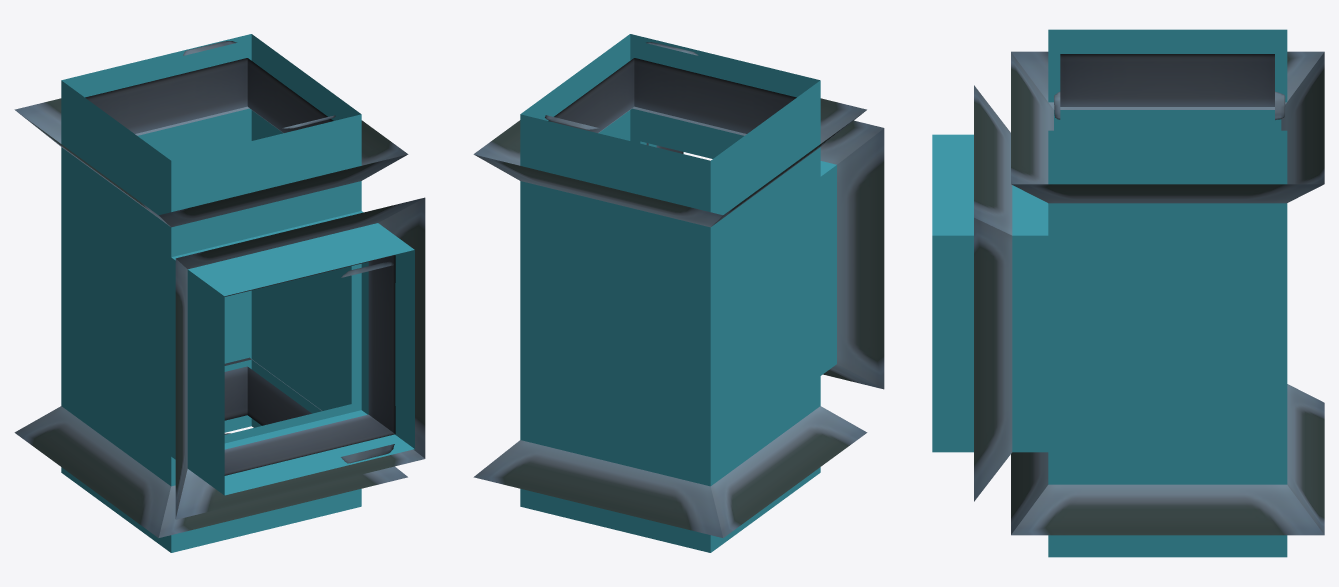
File: obj_interactive_pipe_T_lod1.fbx
3 renders of one model, left to right at view 1: azimuth 30°, elevation 25°; view 2: azimuth 150°, elevation 25°; view 3: azimuth 270°, elevation 25°, orthographic. The views are drawn at different scales.
Parts seen in each view (by area): view 1: obj_interactive_pipe03_lod1; view 2: obj_interactive_pipe03_lod1; view 3: obj_interactive_pipe03_lod1.
Part boxes in pixels (bbox=[...]): obj_interactive_pipe03_lod1: bbox=[14, 34, 425, 552]; obj_interactive_pipe03_lod1: bbox=[473, 34, 884, 552]; obj_interactive_pipe03_lod1: bbox=[932, 29, 1324, 557].
Size of the model in its own units: 2 by 3 by 2.5.
